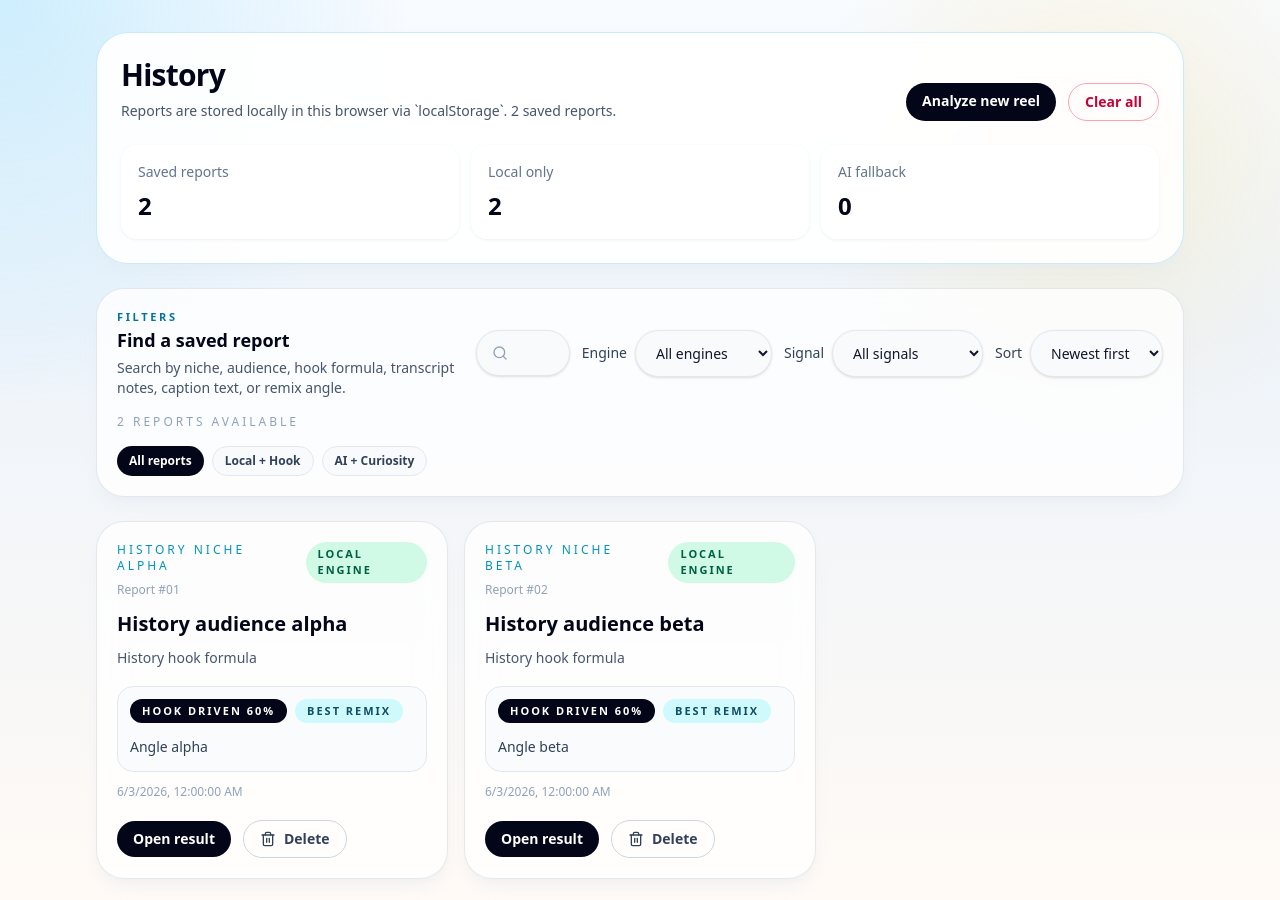
Scenario: HistoryPage › shows a no-match state when the search returns nothing
The image size is (1280, 900).
Type "missing" into the field labelled "Search saved reports" at coordinates (523, 353), box [476,330,570,376]
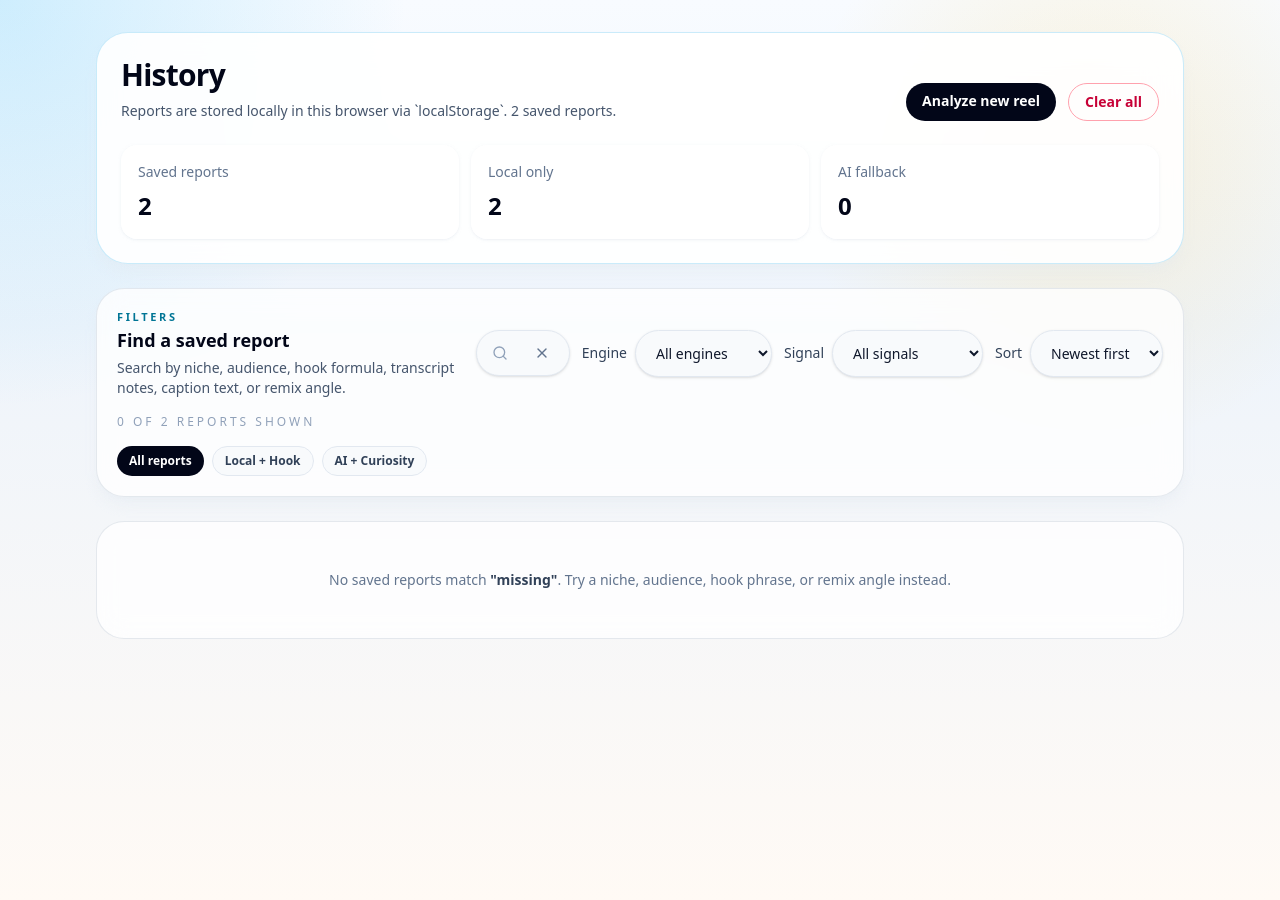
Expected: the text "No saved reports match" is shown, [329,570,490,588]
Expected: the text "History niche alpha" is gone
Expected: the text "History niche beta" is gone
